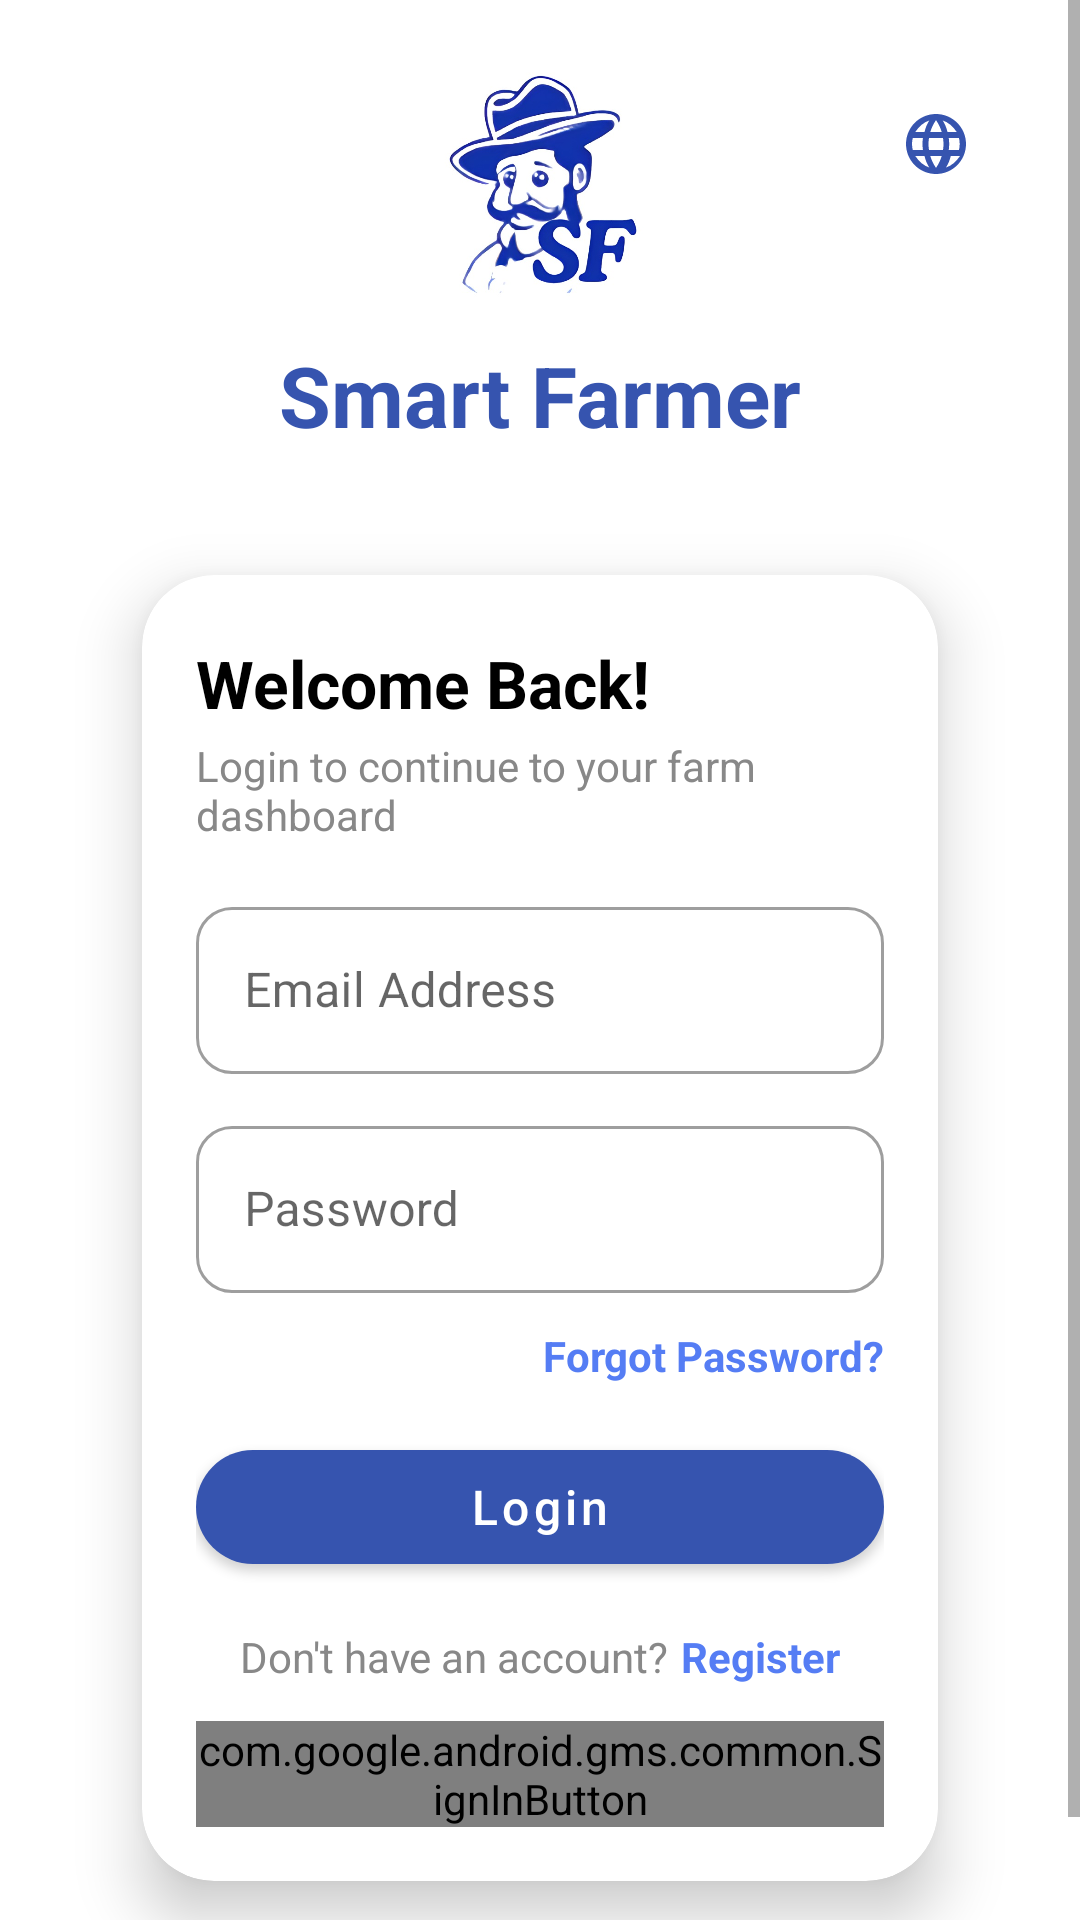

Icons on this 1080px x 1920px Android screen, each with its box as [left=x1, top=y1, right=x2, bottom=y2]:
Choose Your Language: [left=906, top=114, right=966, bottom=174]
